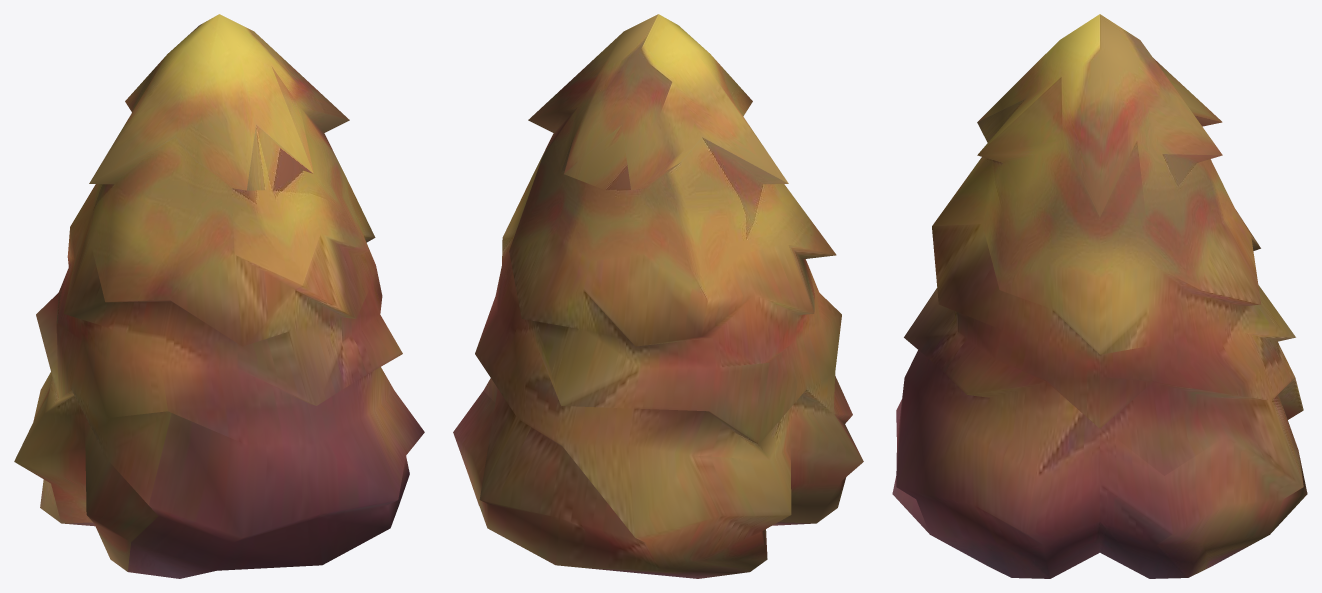
Rendered from chust.fbx.
3 renders of one model, left to right at view 1: azimuth 30°, elevation 25°; view 2: azimuth 150°, elevation 25°; view 3: azimuth 270°, elevation 25°, orthographic.
Parts seen in each view (by area): view 1: chust_LOD0; view 2: chust_LOD0; view 3: chust_LOD0.
Boxes of the visible parts, x1=… form: chust_LOD0: x1=14, y1=14, x2=424, y2=578; chust_LOD0: x1=453, y1=14, x2=863, y2=578; chust_LOD0: x1=892, y1=14, x2=1307, y2=578.
Size of what is drawn, in the model's own units: 325 by 469 by 342.
